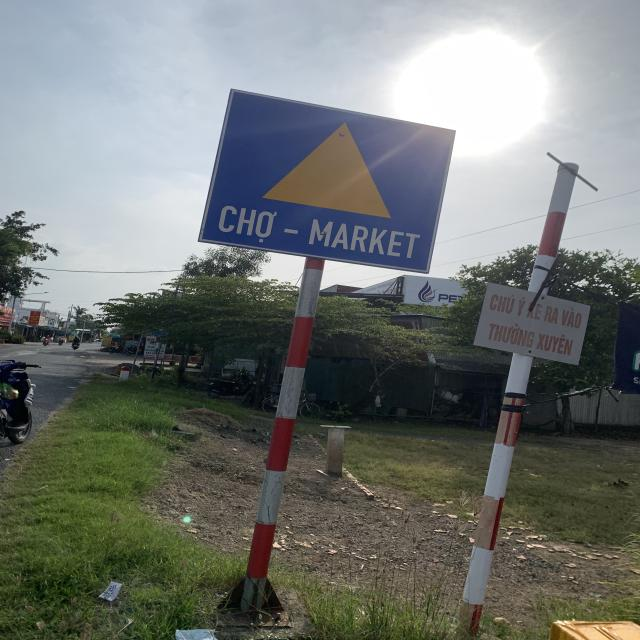Cho_Quay_Xe: (195, 88, 458, 270)
